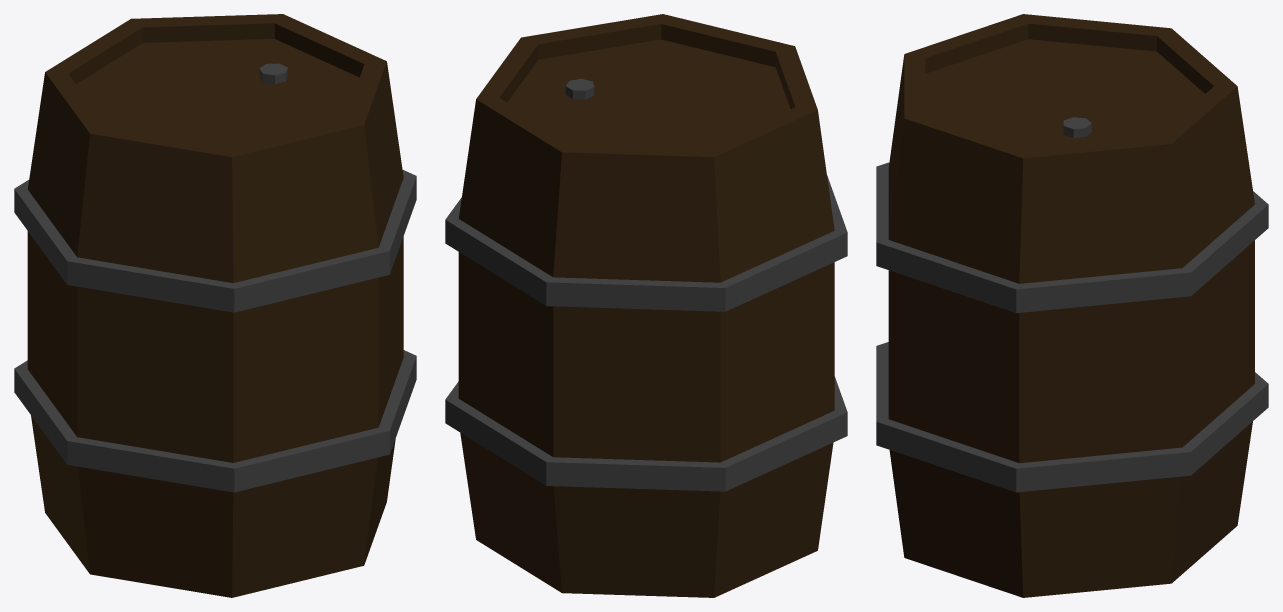
Rendered from dark_barrel.fbx.
3 renders of one model, left to right at view 1: azimuth 30°, elevation 25°; view 2: azimuth 150°, elevation 25°; view 3: azimuth 270°, elevation 25°, orthographic.
Parts seen in each view (by area): view 1: Cylinder.003; view 2: Cylinder.003; view 3: Cylinder.003.
Part boxes in pixels (<box>): Cylinder.003: <box>14,14,416,597</box>; Cylinder.003: <box>445,14,847,597</box>; Cylinder.003: <box>876,14,1268,597</box>.
Bounding box in the file's own units: 178 × 215 × 174.
